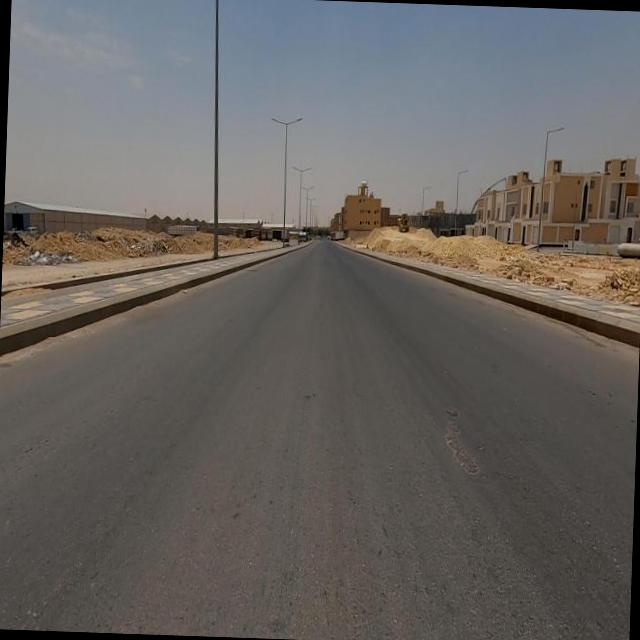debris: (108, 219, 194, 273), (1, 225, 73, 285), (58, 212, 103, 258)
